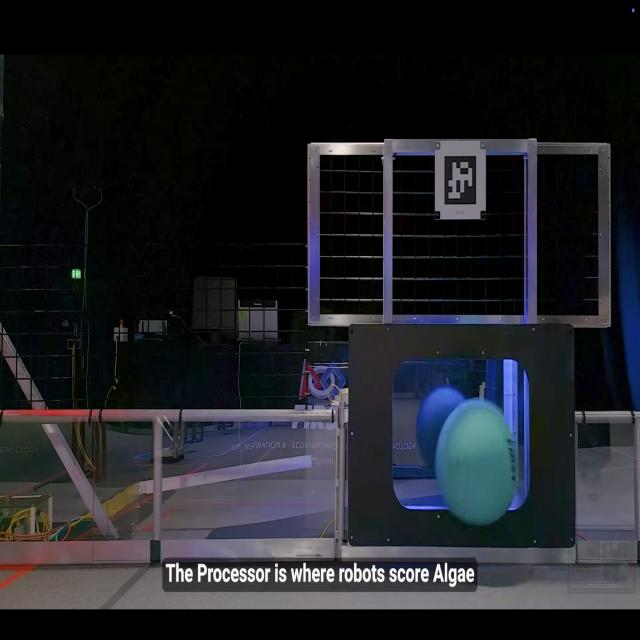algae: (436, 398, 520, 528)
